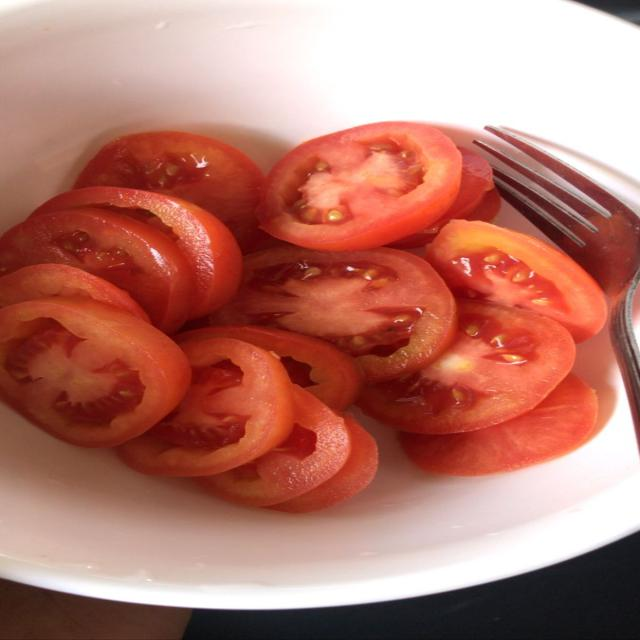sliced_tomato: (212, 246, 456, 381), (357, 300, 575, 433), (0, 296, 190, 446), (32, 187, 241, 317), (259, 122, 461, 251), (0, 208, 194, 332), (118, 339, 293, 476), (74, 131, 265, 251), (427, 221, 607, 341), (399, 374, 597, 476), (197, 386, 351, 506), (174, 325, 363, 410), (270, 414, 378, 513), (389, 147, 494, 248), (0, 263, 148, 321), (465, 187, 501, 222)
